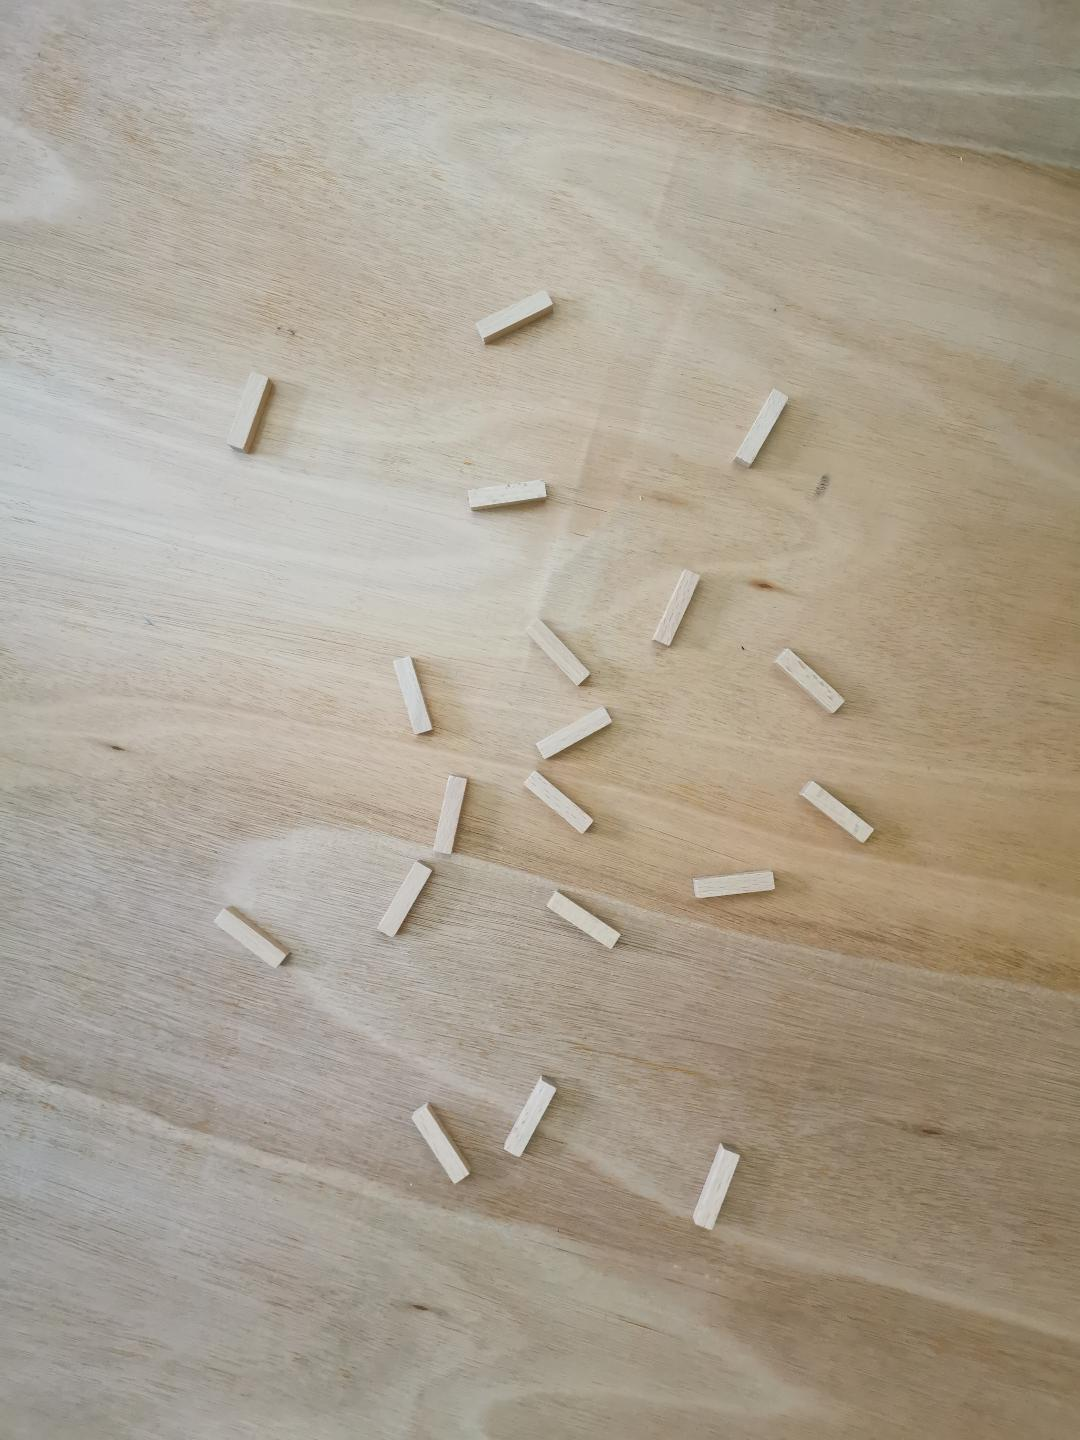jenga: (799, 782, 875, 844), (413, 1106, 470, 1184), (776, 650, 844, 712), (734, 388, 787, 467), (504, 1077, 557, 1155), (217, 908, 287, 967), (475, 289, 551, 344), (526, 771, 593, 832), (377, 861, 430, 937), (548, 891, 618, 948), (526, 619, 588, 684), (694, 1145, 740, 1229), (538, 709, 610, 760), (228, 371, 272, 452), (652, 571, 700, 644), (394, 655, 433, 734), (433, 777, 467, 855), (692, 869, 776, 897), (467, 481, 546, 509)
